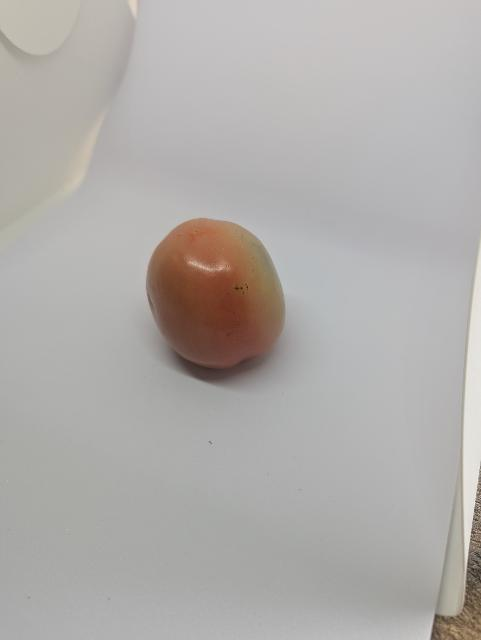turning: (125, 215, 296, 383)
